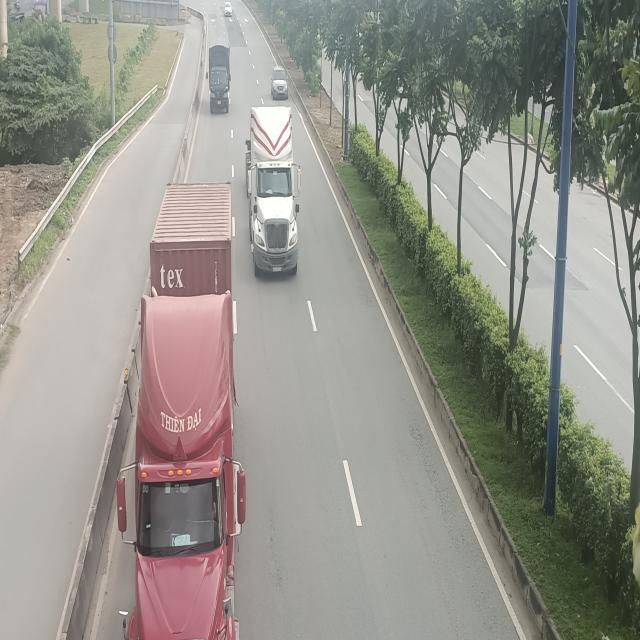car: (271, 65, 288, 98)
container: (116, 180, 246, 640), (246, 106, 300, 279)
truck: (206, 44, 232, 111)
